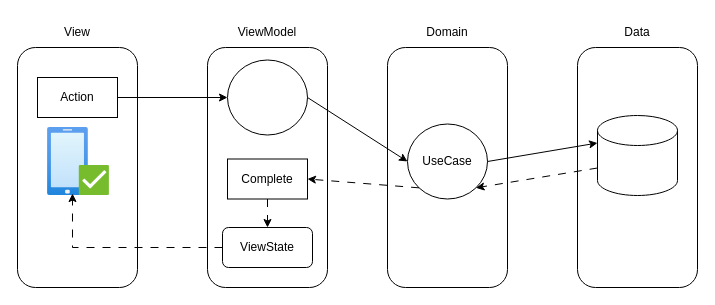
Image size: 715x305. Some labels were removed from this diagram. The centre of each missing label's shape, as x and y in pixels:
Processing action: [267,97]
Repository: [637,155]
